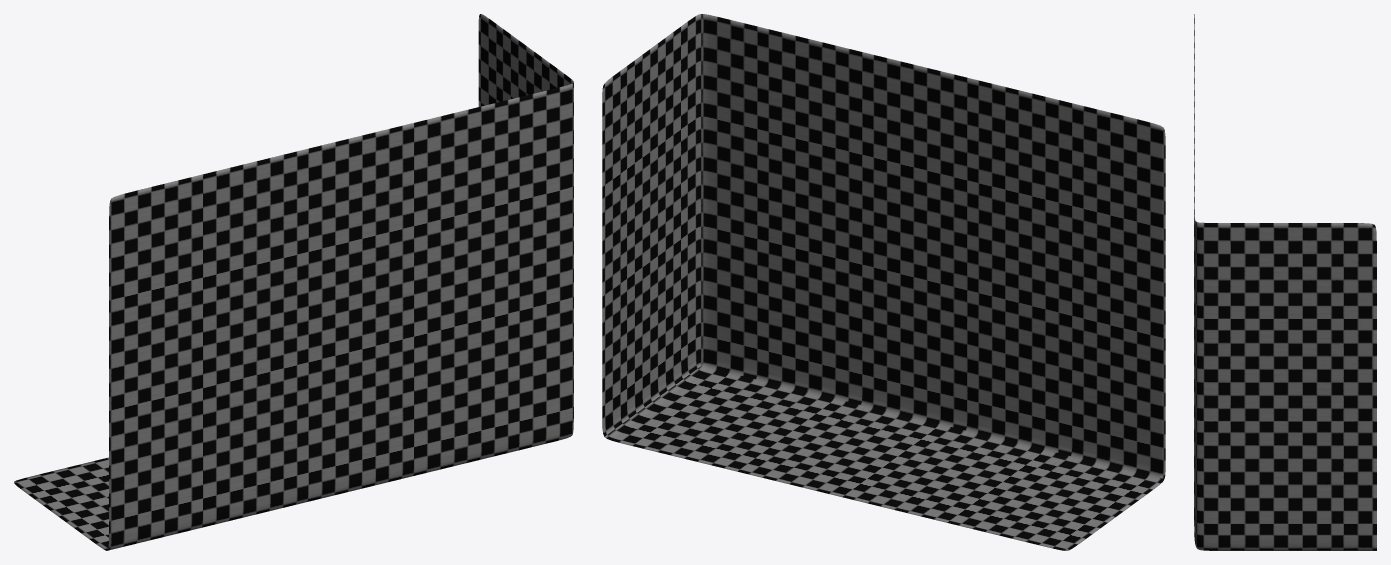
The model's file is StudioCorner.fbx.
3 renders of one model, left to right at view 1: azimuth 30°, elevation 25°; view 2: azimuth 150°, elevation 25°; view 3: azimuth 270°, elevation 25°, orthographic. The views are drawn at different scales.
Parts seen in each view (by area): view 1: Studio Corner; view 2: Studio Corner; view 3: Studio Corner.
Part boxes in pixels (<box>): Studio Corner: <box>14,14,573,550</box>; Studio Corner: <box>602,14,1165,550</box>; Studio Corner: <box>1194,14,1376,550</box>.
Bounding box in the file's own units: 2384 × 1734 × 868.
